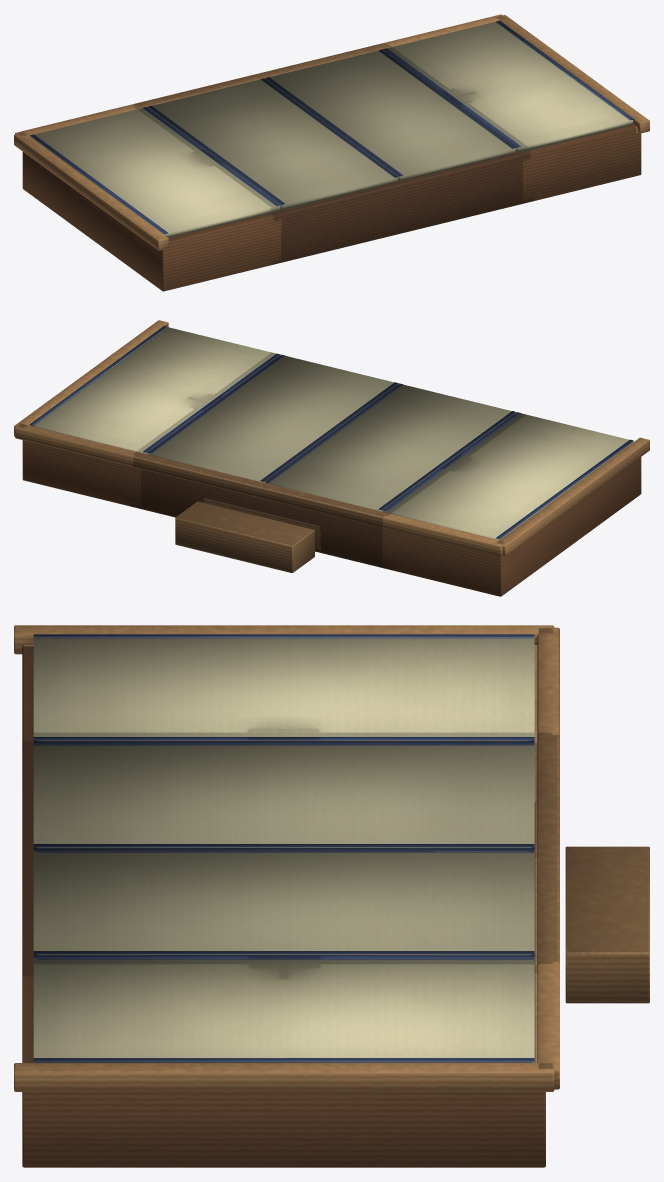
The model's file is koagari_4.glb.
3 views of the same model, one above another, from view 1: azimuth 30°, elevation 25°; view 2: azimuth 150°, elevation 25°; view 3: azimuth 270°, elevation 25° (orthographic). The views are drawn at different scales.
Visible parts, largest first — view 1: prop_koagari_4_felt, prop_koagari_4_wood; view 2: prop_koagari_4_felt, prop_koagari_4_wood; view 3: prop_koagari_4_felt, prop_koagari_4_wood.
Boxes of the visible parts, x1,y1,x2,y2 form: prop_koagari_4_felt: [30, 20, 633, 238]; prop_koagari_4_wood: [14, 14, 649, 291]; prop_koagari_4_felt: [30, 326, 633, 540]; prop_koagari_4_wood: [14, 320, 649, 596]; prop_koagari_4_felt: [33, 634, 534, 1062]; prop_koagari_4_wood: [14, 625, 649, 1167].
Size of the model in its own units: 7.52 by 0.804 by 4.52.
Materials: 2 (2 with a texture image).
